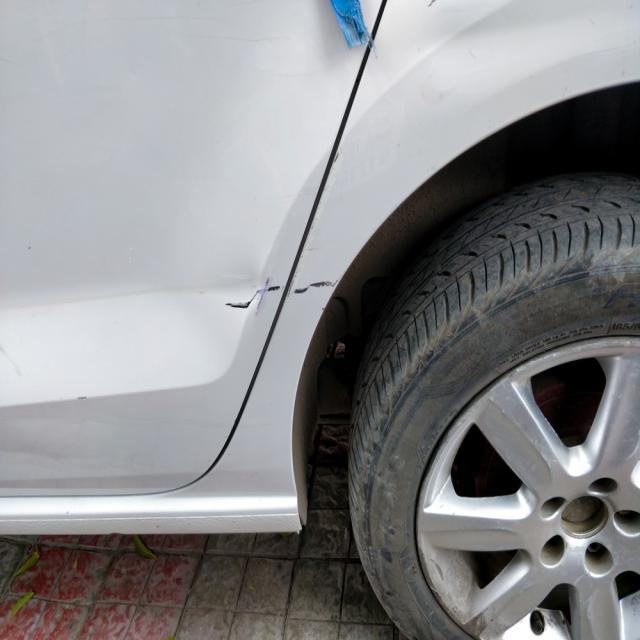crack: (223, 286, 280, 309)
dent: (401, 18, 551, 93)
scratch: (292, 278, 336, 297)
